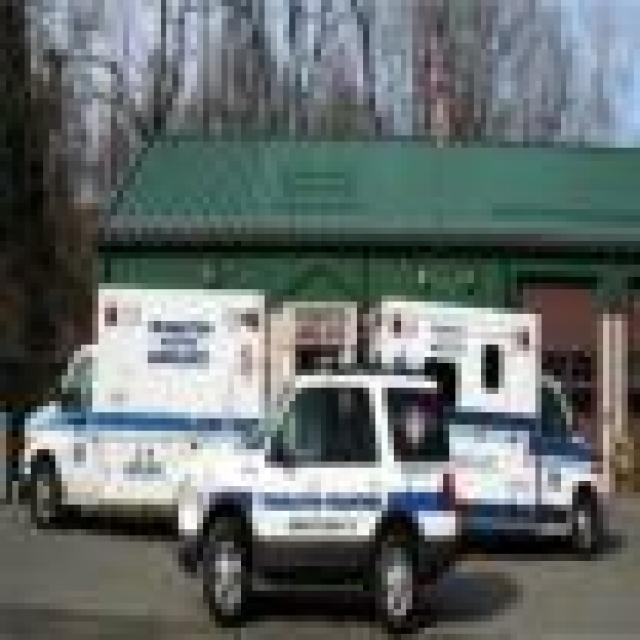emergency-vehicle: (160, 378, 468, 637), (22, 280, 286, 538), (366, 295, 606, 554)
